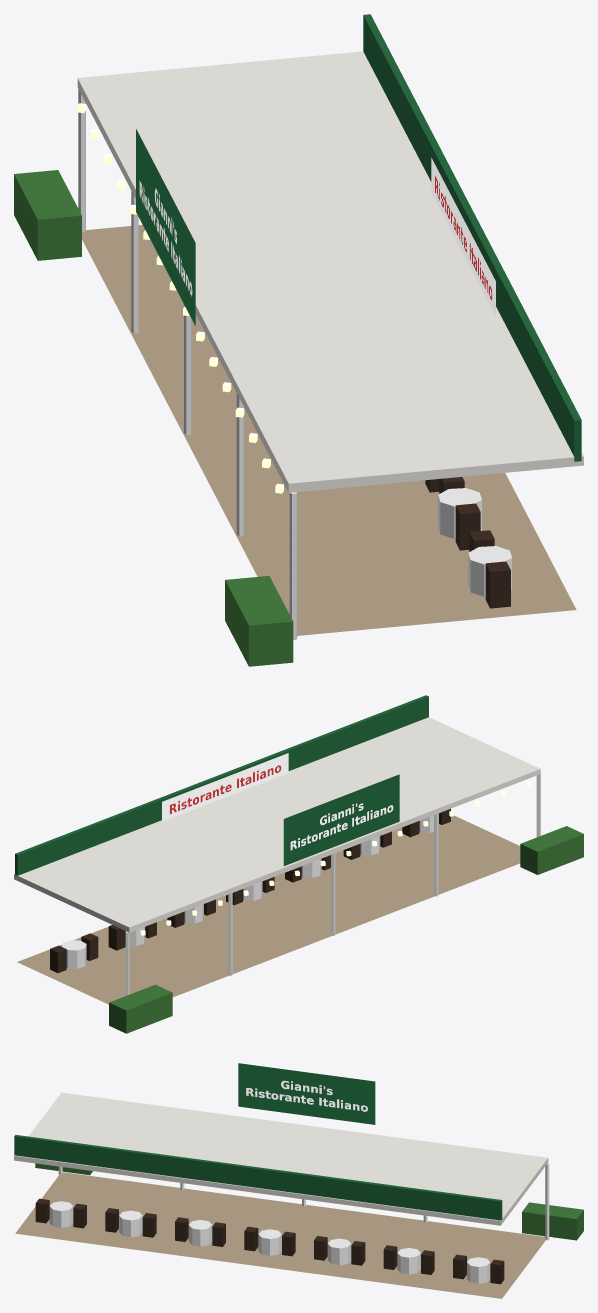
The model's file is giannis.glb.
3 views of the same model, one above another, from view 1: azimuth 30°, elevation 25°; view 2: azimuth 150°, elevation 25°; view 3: azimuth 270°, elevation 25° (orthographic). The views are drawn at different scales.
Visible parts, largest first — view 1: giannis_lod0; view 2: giannis_lod0; view 3: giannis_lod0.
Part boxes in pixels (left/top/right/bottom): giannis_lod0: left=14, top=14, right=583, bottom=666; giannis_lod0: left=14, top=695, right=583, bottom=1033; giannis_lod0: left=14, top=1063, right=583, bottom=1298.
Size of what is drawn, in the model's own units: 12.95 by 5.52 by 21.78.
10 materials, 1 textured.
